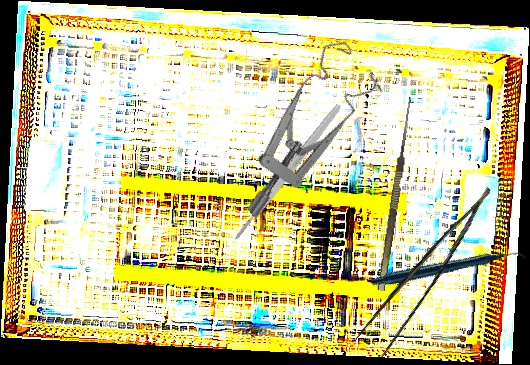Handpiece: (369, 200, 529, 340)
Hook Surgical: (366, 94, 416, 292)
Scalpel Handle: (230, 101, 345, 243)
Speculum: (196, 31, 405, 220)
Tissue Forceps: (346, 187, 517, 365)
